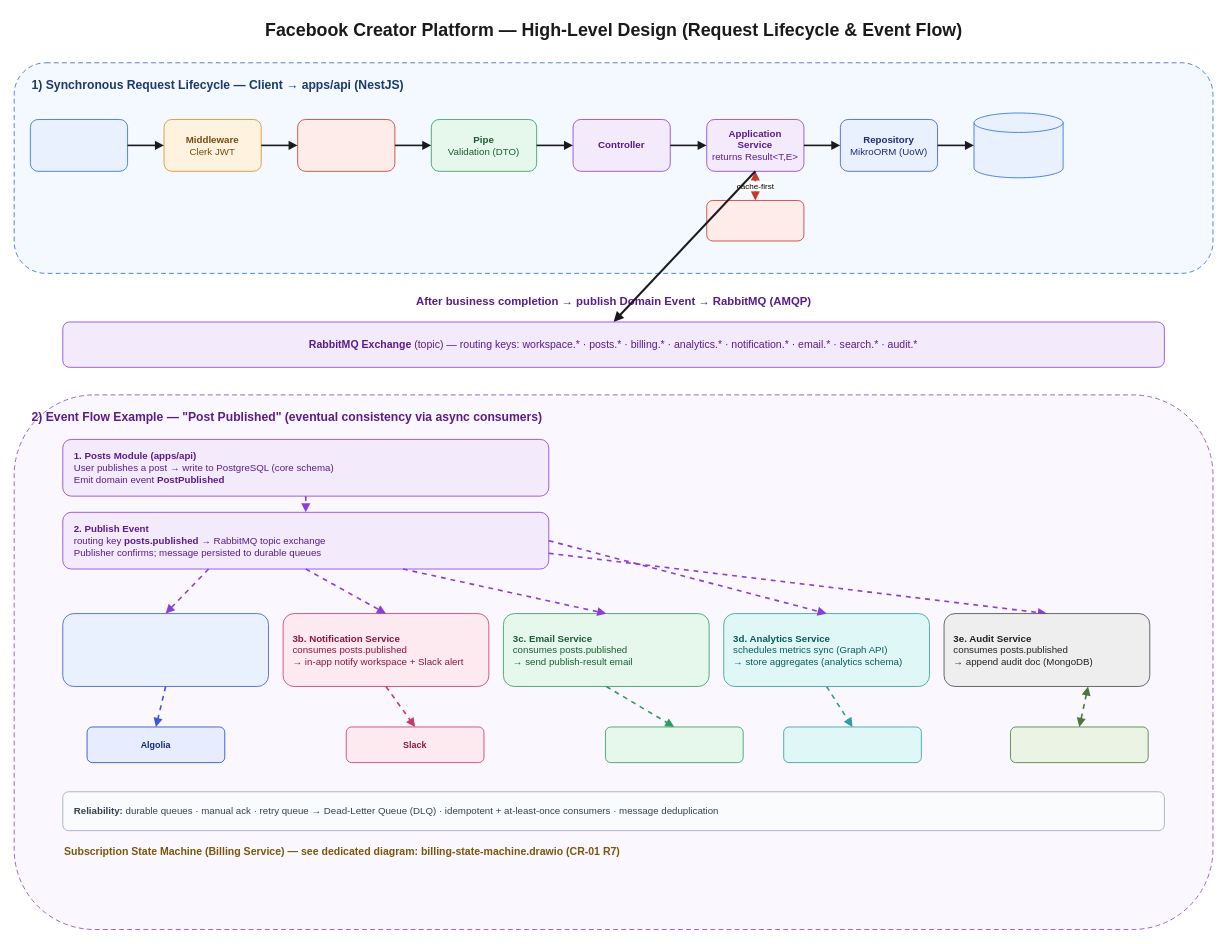
Some shapes in this 1227 by 944 pixel diagram are drawn without their labels. Here are the shapes that lost their labels. From the top down, the centre of each, then its label:
the point at 79,145: Client Next.js
the point at 346,145: Guard RBAC (Roles)
the point at 1018,145: PostgreSQL
the point at 755,220: Redis cache check
the point at 165,649: 3a. Search Service consumes posts.published → index post in Algolia
the point at 674,744: Email Provider
the point at 852,744: Facebook Graph API
the point at 1079,744: MongoDB audit trail
